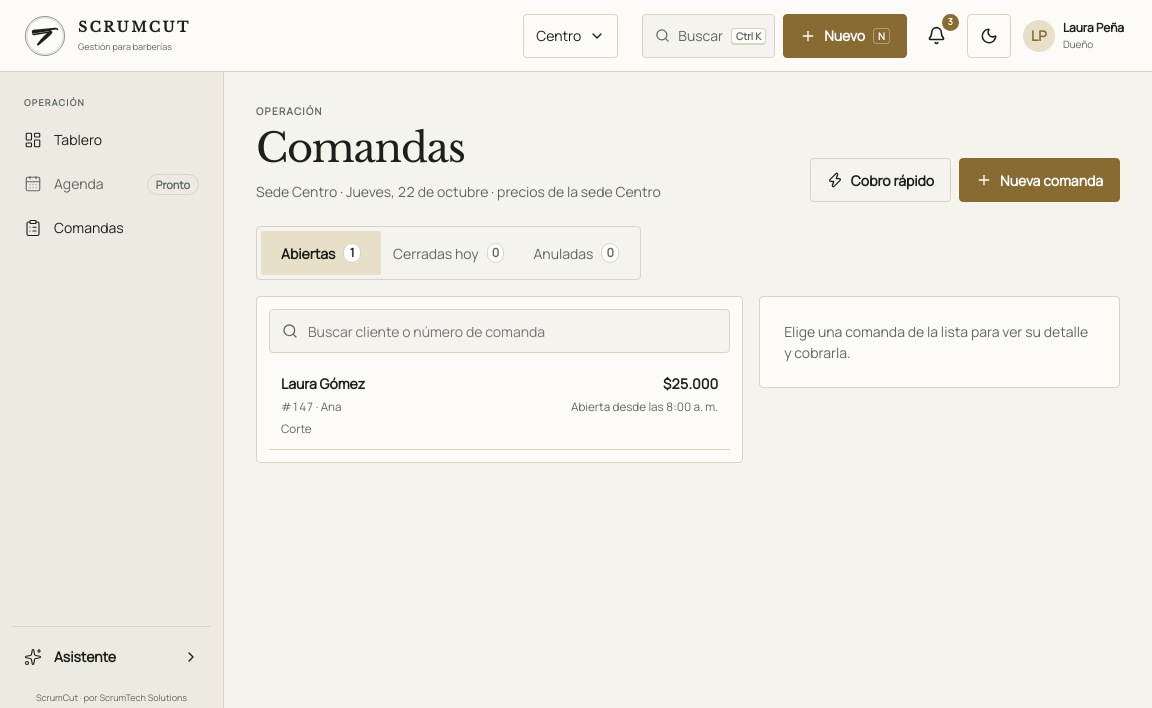
Test: lista de comandas › la búsqueda va a la URL al enviarla y elegir una comanda abre su detalle
In the search field named "Buscar por cliente": (512, 331) [306,311,717,351], type "laura"
Then press Enter
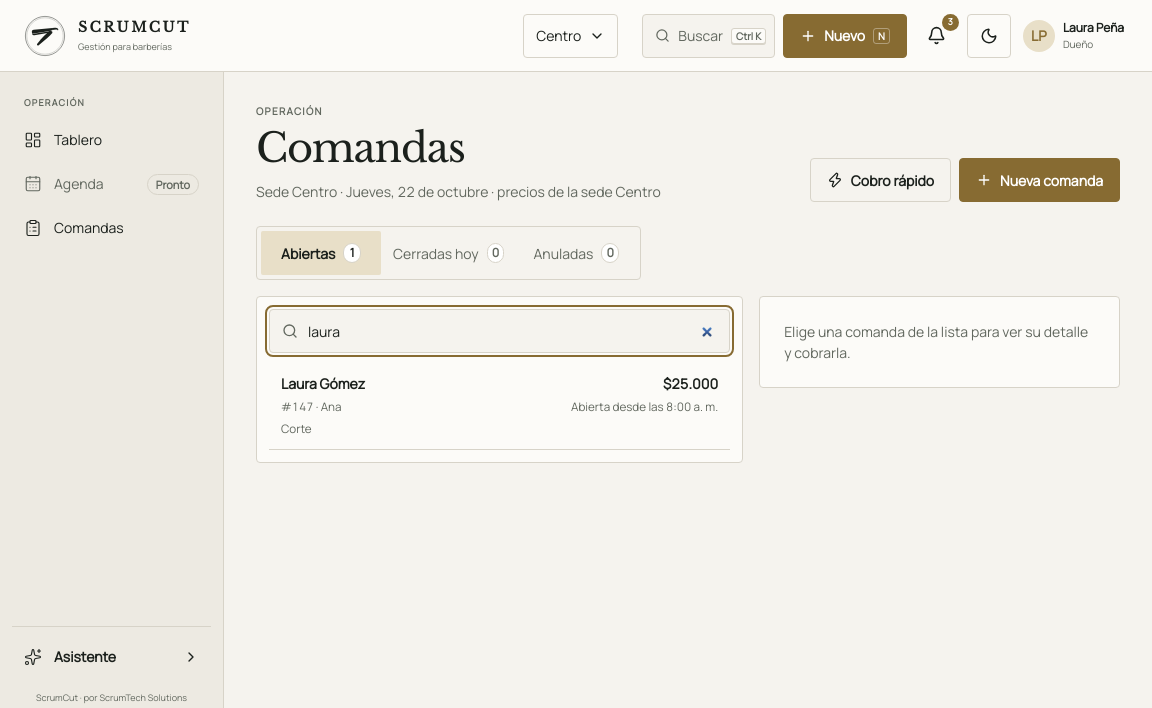
Click the link "Laura Gómez": (323, 384) [269,361,730,450]
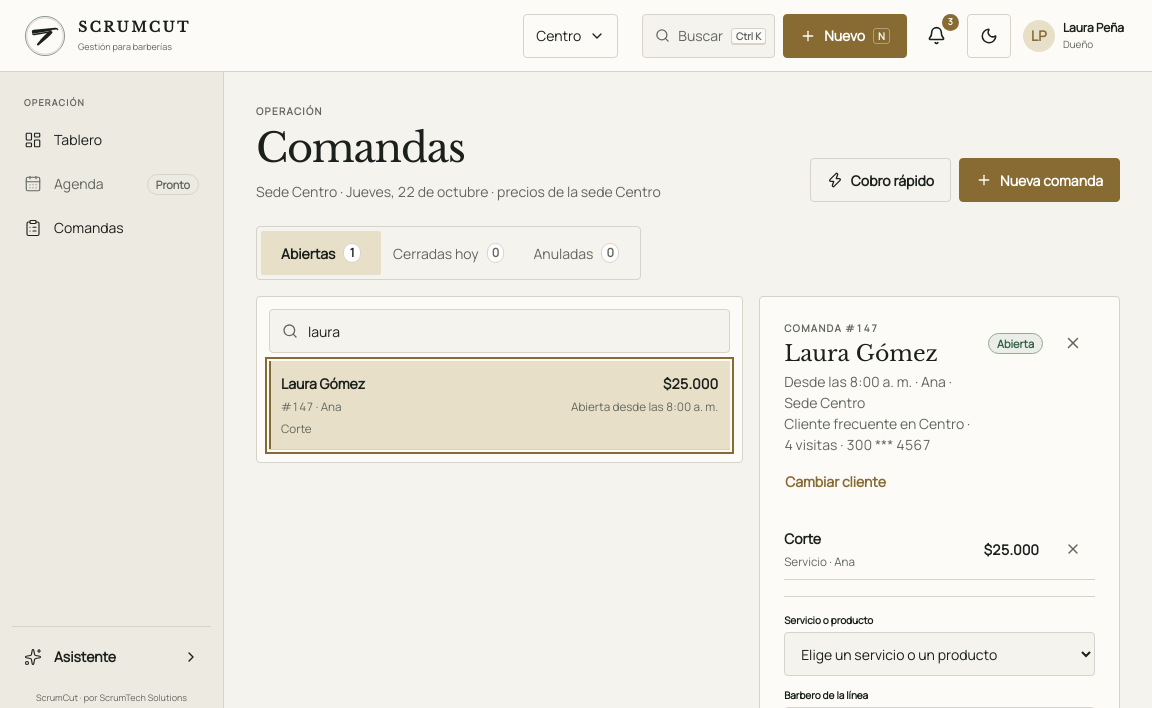
Check: the heading "Laura Gómez" is shown, box [784,340,938,367]
